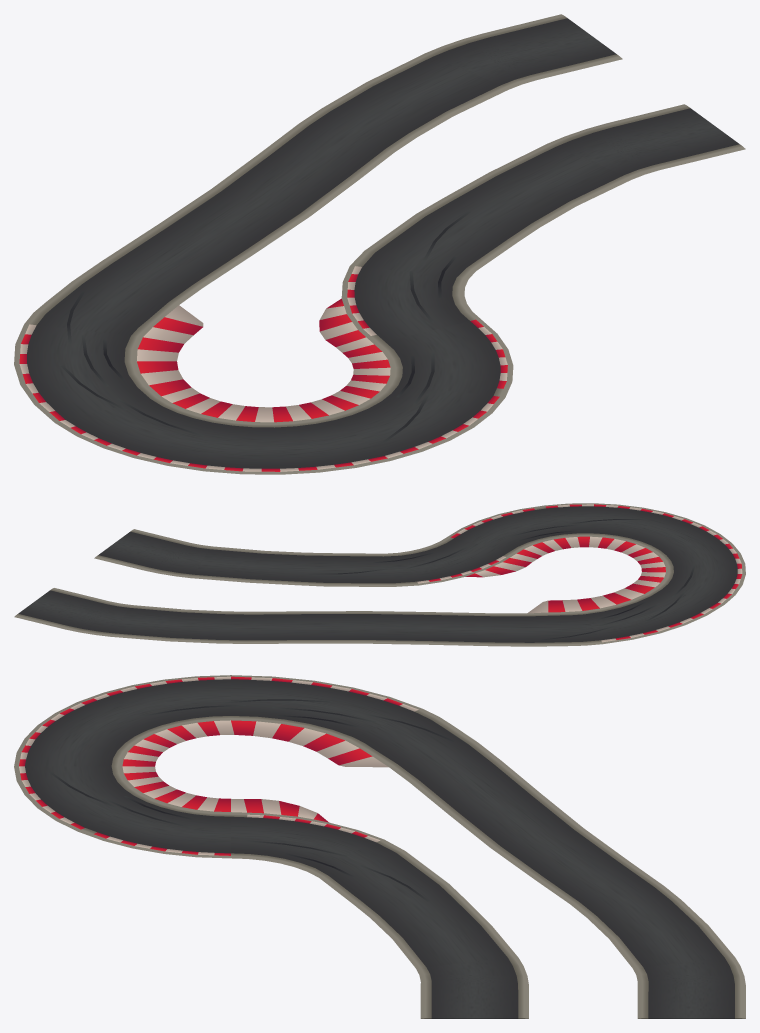
The model's file is Special_1B.glb.
3 renders of one model, top to bottom at view 1: azimuth 30°, elevation 25°; view 2: azimuth 150°, elevation 25°; view 3: azimuth 270°, elevation 25°, orthographic. The views are drawn at different scales.
Parts seen in each view (by area): view 1: Special_1B, Special_1B_Skidmarks; view 2: Special_1B, Special_1B_Skidmarks; view 3: Special_1B, Special_1B_Skidmarks.
Part boxes in pixels (box(x1,y1,x2,y2)): Special_1B: box(14, 14, 745, 474); Special_1B_Skidmarks: box(61, 211, 470, 442); Special_1B: box(14, 503, 745, 646); Special_1B_Skidmarks: box(308, 519, 695, 640); Special_1B: box(14, 675, 745, 1018); Special_1B_Skidmarks: box(49, 699, 454, 901).
Bounding box in the file's own units: 150 × 0.104 × 135.
Materials: 1 (1 with a texture image).
